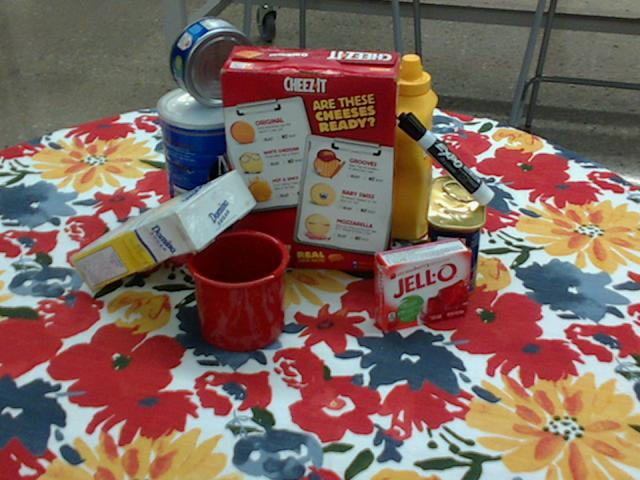cracker_box: (220, 46, 401, 273)
gelatin_box: (374, 238, 472, 333)
large_marker: (398, 112, 495, 206)
master_chef_can: (159, 84, 259, 242)
mug: (186, 228, 291, 351)
mustard_bottle: (382, 56, 438, 241)
potted_meat_can: (425, 176, 487, 298)
sugar_box: (67, 170, 256, 291)
tomato_soup_can: (310, 105, 370, 210)
tuna_fish_can: (170, 17, 257, 106)
